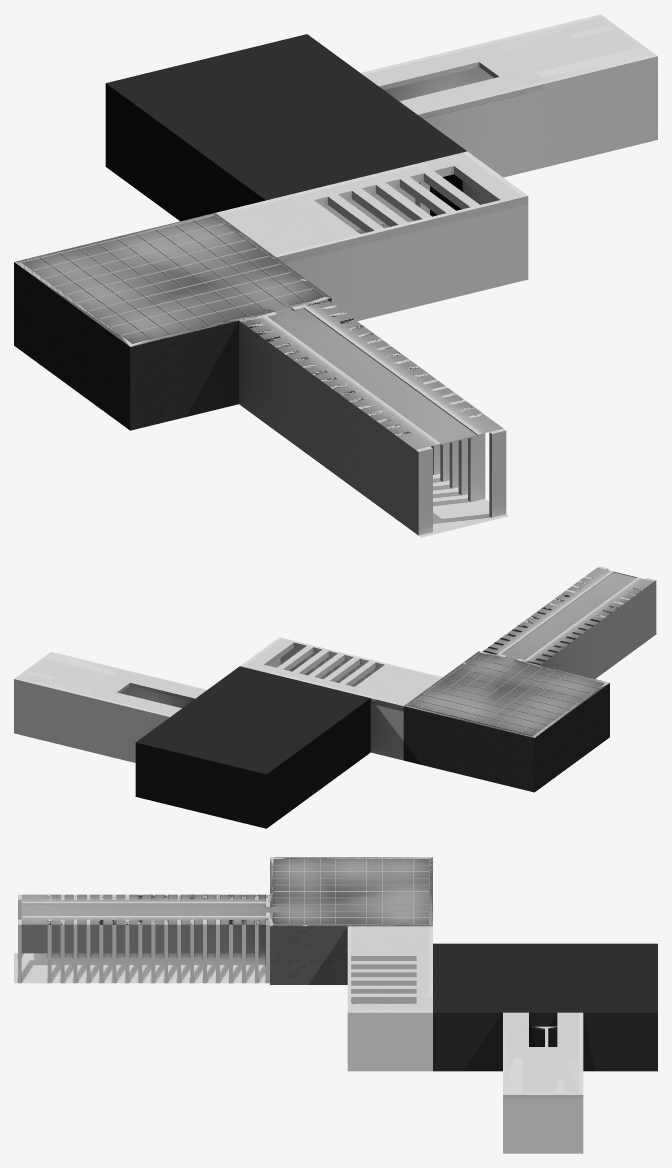
File: gardium1.gltf
3 renders of one model, top to bottom at view 1: azimuth 30°, elevation 25°; view 2: azimuth 150°, elevation 25°; view 3: azimuth 270°, elevation 25°, orthographic. The views are drawn at different scales.
Parts seen in each view (by area): view 1: Models_0706; view 2: Models_0706; view 3: Models_0706.
Boxes of the visible parts, bbox=[...] form: Models_0706: bbox=[14, 14, 657, 537]; Models_0706: bbox=[14, 566, 657, 828]; Models_0706: bbox=[14, 857, 657, 1153].
Bounding box in the file's own units: 43.4 × 5.05 × 49.72.
Materials: 9 (8 with a texture image).
